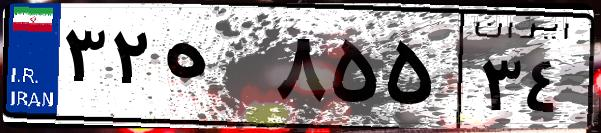2: (110, 28, 158, 98)
3: (57, 26, 110, 100), (475, 38, 525, 113)
4: (525, 38, 570, 115)
5: (385, 28, 445, 110), (330, 28, 385, 110)
8: (270, 28, 330, 110)
ه: (158, 20, 270, 120)
